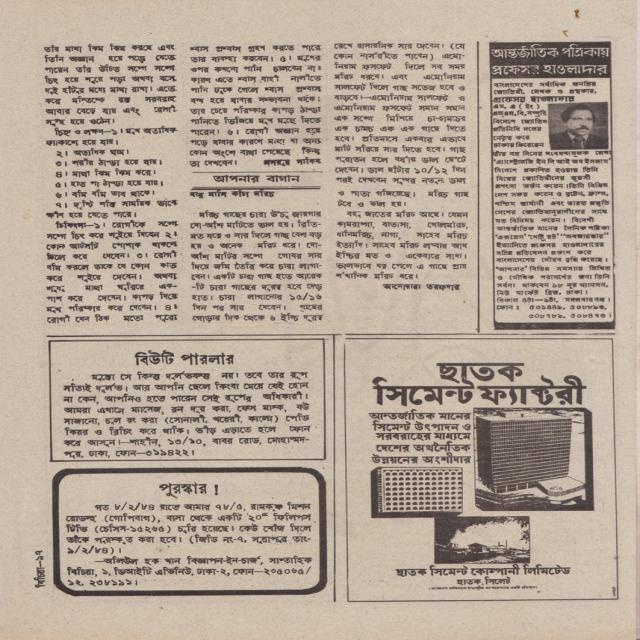advertisement: (345, 338, 619, 601), (490, 42, 616, 329), (54, 468, 325, 595), (49, 339, 325, 460)
page number: (34, 550, 44, 559)
paragraph: (333, 41, 471, 209), (188, 43, 324, 168), (190, 210, 323, 323), (44, 219, 180, 324), (42, 125, 179, 219), (40, 43, 177, 127), (337, 209, 469, 282)
text: (264, 156, 321, 166), (383, 284, 461, 291), (34, 568, 46, 587)
title: (213, 174, 301, 184), (189, 189, 276, 198)
